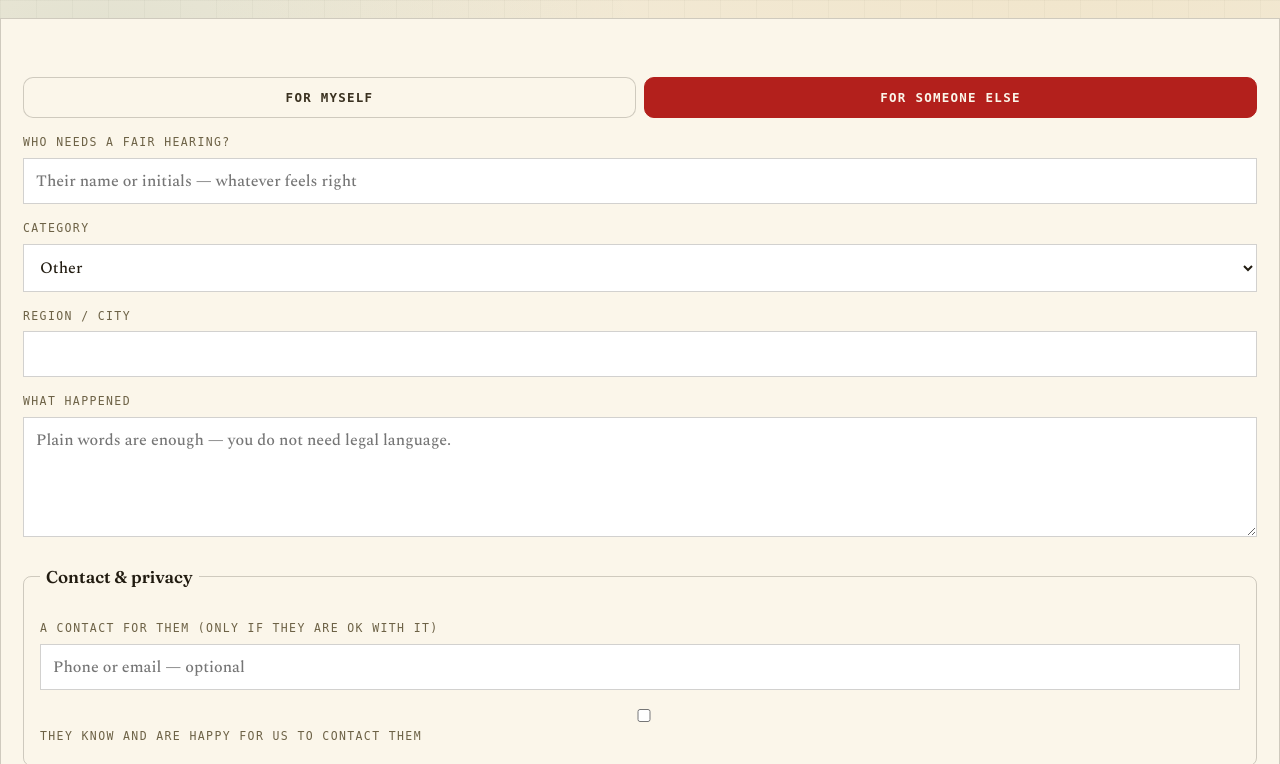
Test: IntakeForm (referral mode) › reports a network failure
Type "Kiran" into the field labelled "Who needs a fair hearing?". click: (640,181)
box: [23,158,1257,204]
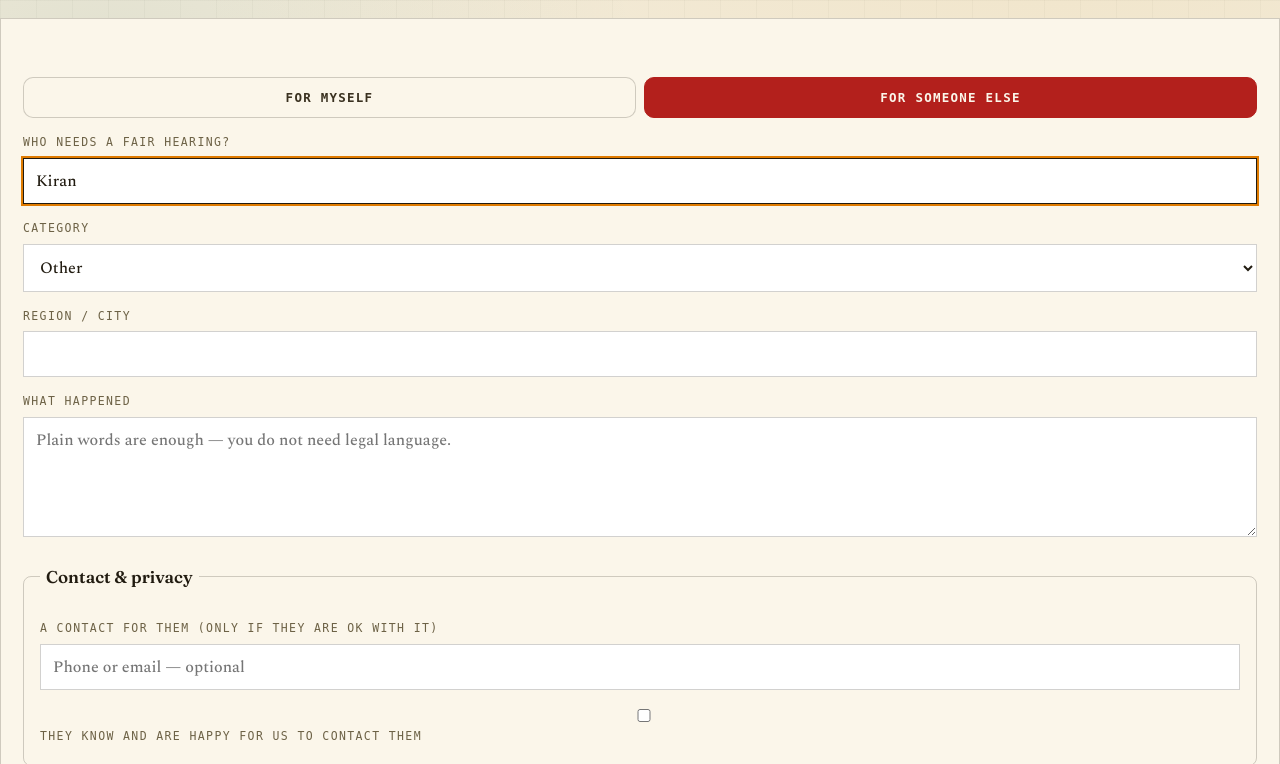
Type "Something." into the text box labelled "What happened". click: (640,477)
box: [23,417,1257,537]
(page scrolled)
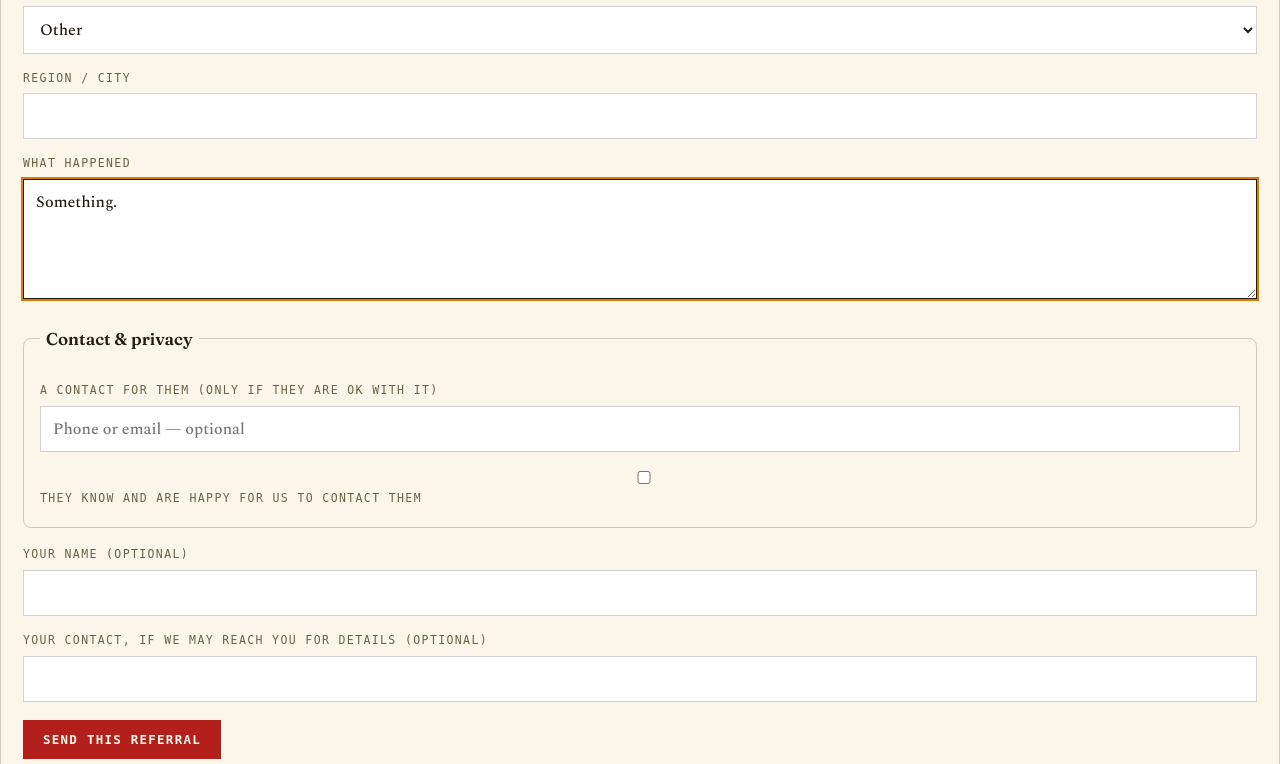
Click the button "Send this referral". click: (122,740)
box: [23,720,221,759]
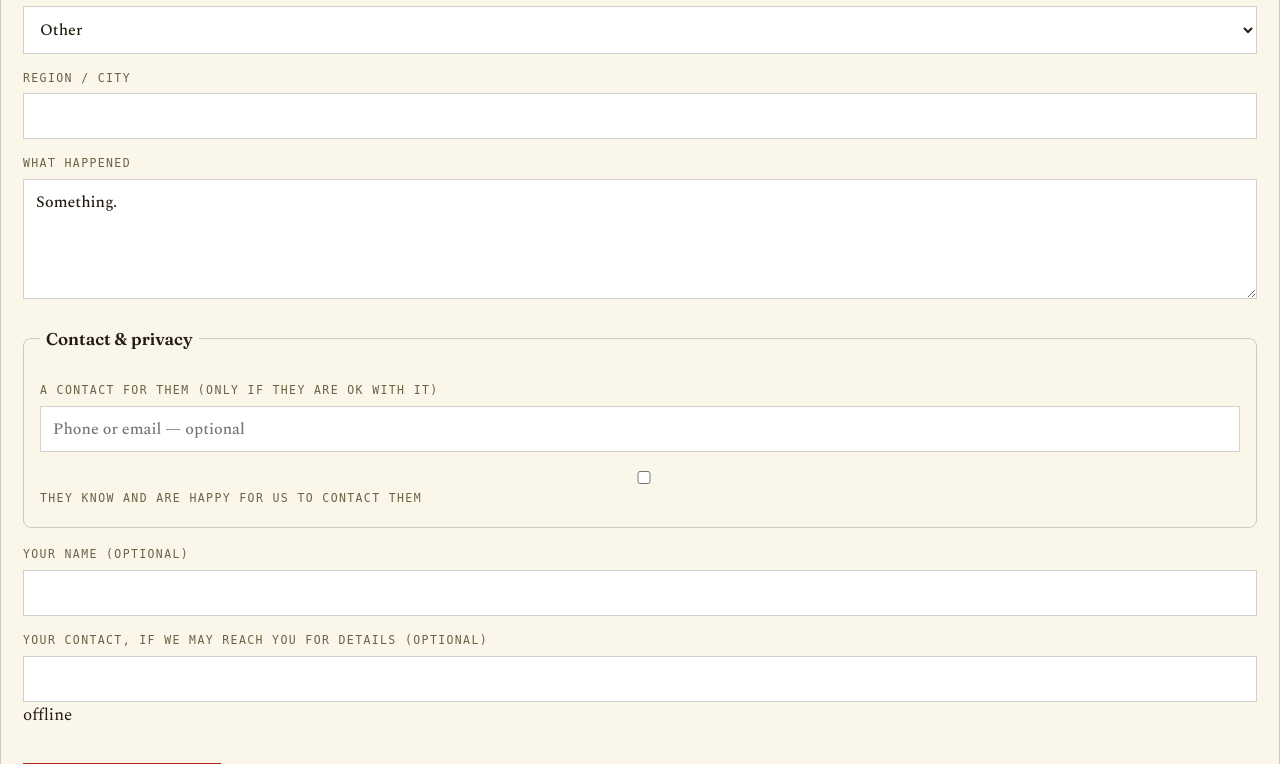
Result: the message reads "offline" at [23,702,72,728]
